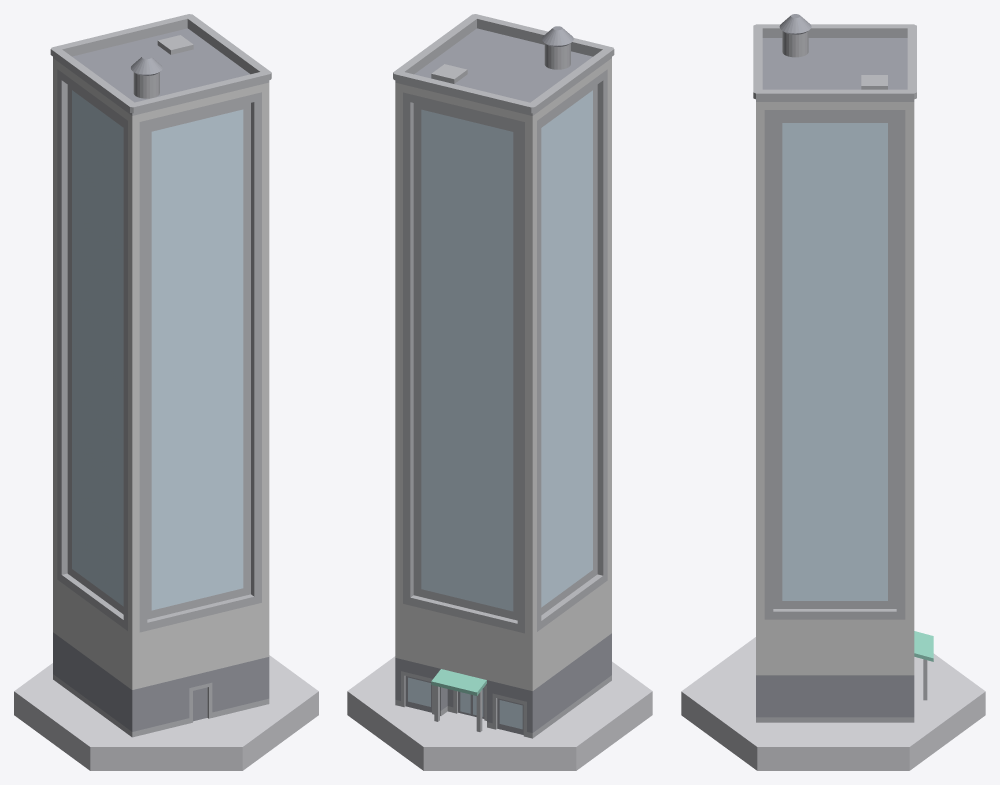
Rendered from skyscraper_1_low.fbx.
3 renders of one model, left to right at view 1: azimuth 30°, elevation 25°; view 2: azimuth 150°, elevation 25°; view 3: azimuth 270°, elevation 25°, orthographic.
Parts seen in each view (by area): view 1: skyscraperD.002, pavement_low.003; view 2: skyscraperD.002, pavement_low.003; view 3: skyscraperD.002, pavement_low.003.
Boxes of the visible parts, x1=… form: skyscraperD.002: x1=50, y1=14, x2=271, y2=737; pavement_low.003: x1=14, y1=655, x2=318, y2=770; skyscraperD.002: x1=393, y1=14, x2=614, y2=738; pavement_low.003: x1=347, y1=656, x2=652, y2=770; skyscraperD.002: x1=753, y1=14, x2=933, y2=722; pavement_low.003: x1=681, y1=637, x2=985, y2=770.
Size of the model in its own units: 100 by 285 by 115.
